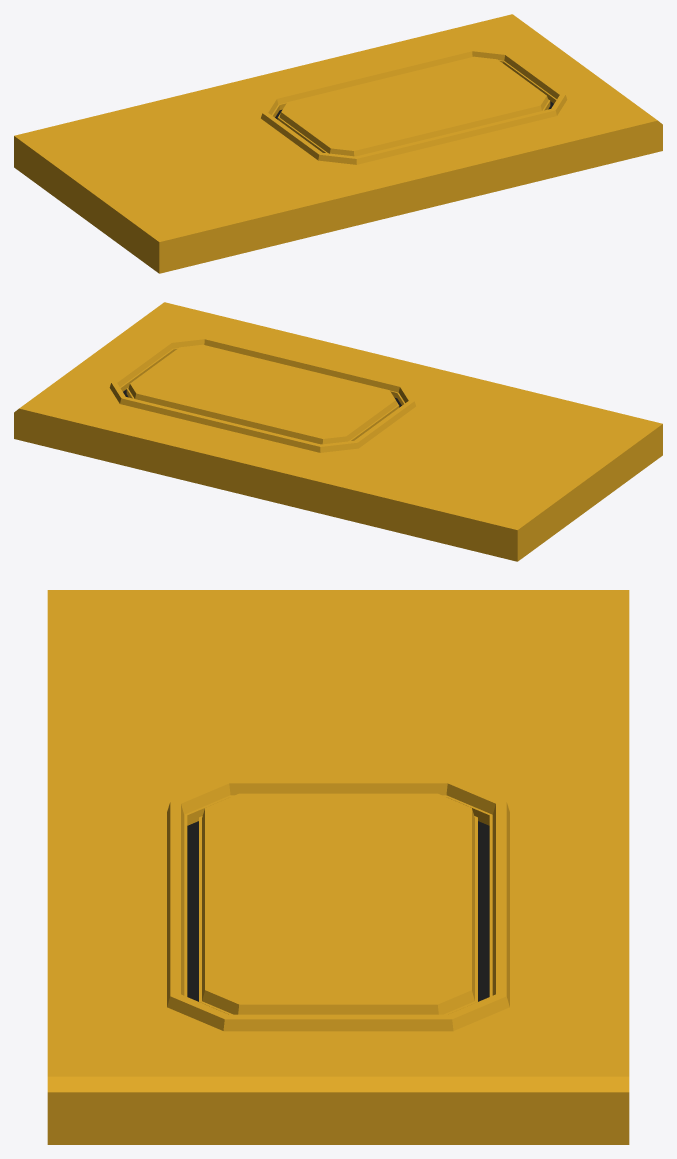
File: Platform v2.fbx
The picture shows the model from 3 angles, top to bottom: view 1: azimuth 30°, elevation 25°; view 2: azimuth 150°, elevation 25°; view 3: azimuth 270°, elevation 25°; orthographic projection. The views are drawn at different scales.
Parts seen in each view (by area): view 1: Body1; view 2: Body1; view 3: Body1.
Part boxes in pixels (left/top/right/bottom): Body1: left=14, top=14, right=662, bottom=273; Body1: left=14, top=302, right=662, bottom=561; Body1: left=47, top=590, right=629, bottom=1144.
Bounding box in the file's own units: 10 × 0.7 × 5.
